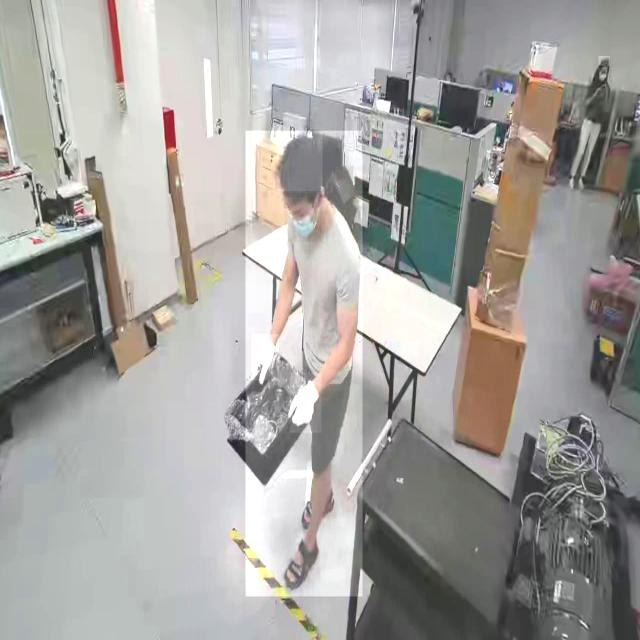face_mask: (284, 193, 322, 242)
hand_glove: (290, 372, 322, 434), (251, 334, 279, 380)
head_nohelmet: (277, 132, 323, 192), (598, 56, 610, 67)
person: (245, 131, 363, 597)
